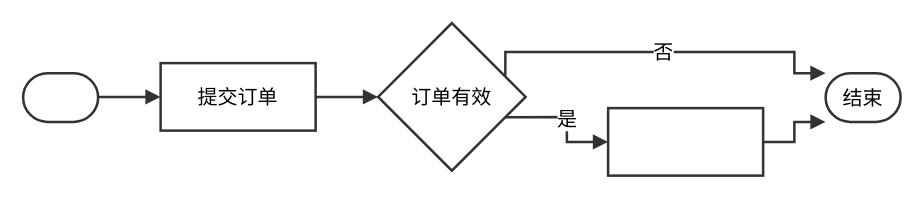
This 923x198 diagram has some shape labels left out. Each missing label, with the box of its shape:
开始: (21, 71, 99, 122)
确认订单: (606, 106, 764, 176)
